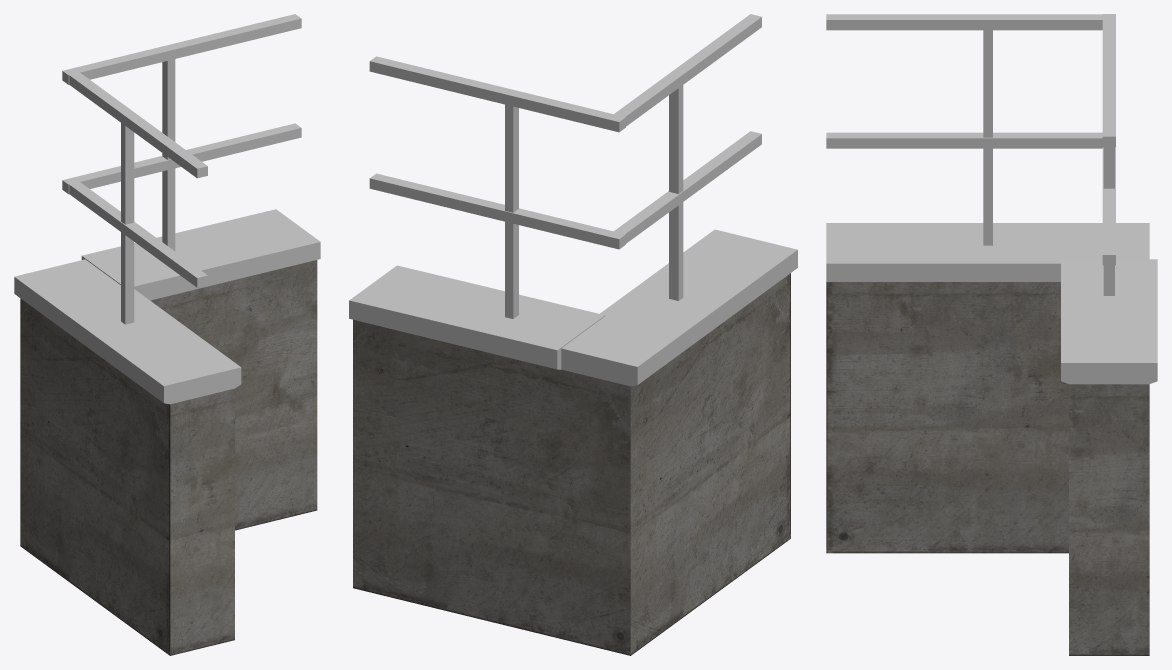
The model's file is CP_Parapet_A_Angle_Out.fbx.
3 views of the same model, side by side, from view 1: azimuth 30°, elevation 25°; view 2: azimuth 150°, elevation 25°; view 3: azimuth 270°, elevation 25° (orthographic). The views are drawn at different scales.
Parts seen in each view (by area): view 1: CP_Parapet_A_Angle_Out; view 2: CP_Parapet_A_Angle_Out; view 3: CP_Parapet_A_Angle_Out.
Boxes of the visible parts, left/top/right/bottom form: CP_Parapet_A_Angle_Out: left=14, top=14, right=320, bottom=655; CP_Parapet_A_Angle_Out: left=349, top=14, right=797, bottom=655; CP_Parapet_A_Angle_Out: left=826, top=14, right=1157, bottom=655.
Size of the model in its own units: 102 by 177 by 102.
